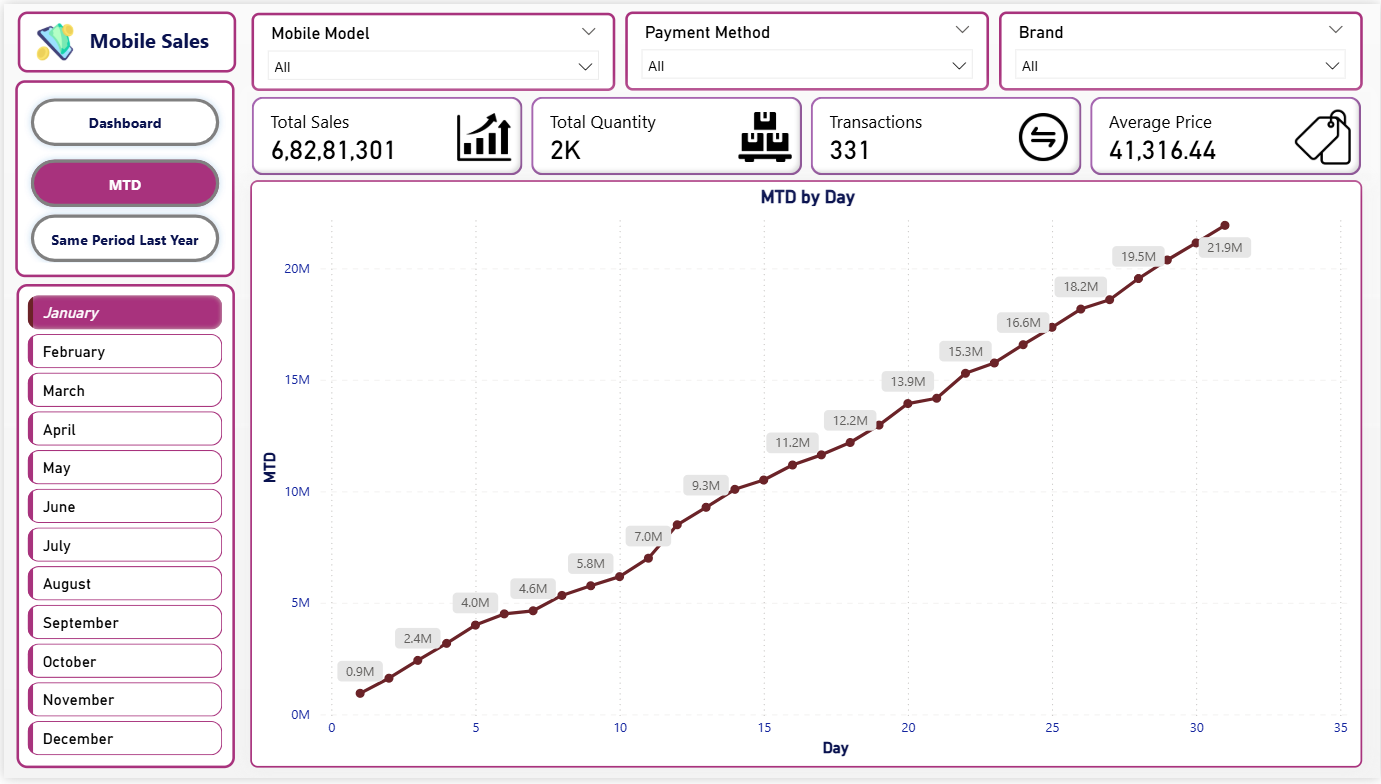

The page's visual inventory and layout, read from the dashboard file:
{"tool":"powerbi","page":{"name":"MTD","canvas":[1280,720],"ordinal":1},"visuals":[{"type":"lineChart","fields":{"Category":["Custom_calender.Date.Variation.Date Hierarchy.Year","Custom_calender.Date.Variation.Date Hierarchy.Quarter","Custom_calender.Date.Variation.Date Hierarchy.Month","Custom_calender.Date.Variation.Date Hierarchy.Day"],"Y":["Sales_data.MTD"]},"box":[229.4,164.4,1034.4,546],"z":0},{"type":"shape","box":[12.3,6.9,203.1,56.9],"z":1000},{"type":"textbox","box":[54.6,16.2,160.8,38.5],"z":2000},{"type":"image","box":[25.4,11.5,43.8,47.7],"z":3000},{"type":"shape","box":[11,71.2,203.7,182.8],"z":4000},{"type":"pageNavigator","box":[18.4,81,189,160.7],"z":5000},{"type":"advancedSlicerVisual","fields":{"Values":["Custom_calender.Date.Variation.Date Hierarchy.Month"]},"box":[12,260,203,450],"z":6000},{"type":"slicer","fields":{"Values":["Sales_data.Mobile Model"]},"box":[230,8.1,338.7,72.9],"z":7000},{"type":"slicer","fields":{"Values":["Sales_data.Payment Method"]},"box":[577.9,7.4,338.7,73.6],"z":8000},{"type":"slicer","fields":{"Values":["Sales_data.Brand"]},"box":[925.5,7.3,338.2,73.6],"z":9000},{"type":"cardVisual","fields":{"Data":["Sales_data.Total_sales","Sales_data.Total_Quantity","Sales_data.Transactions","Sales_data.Average_Price"]},"box":[225.8,80.8,1045.8,83],"z":10000}]}

Visuals, with their boxes in screenshot pixels (x1, y1, x2, y2), scaled from the page's 1280x720 canvas onto the 1381x784 screenshot:
lineChart - Custom_calender.Date.Variation.Date Hierarchy.Year x Custom_calender.Date.Variation.Date Hierarchy.Quarter: 248,179,1364,774
shape: 13,8,232,69
textbox: 59,18,232,60
image: 27,13,75,64
shape: 12,78,232,277
pageNavigator: 20,88,224,263
advancedSlicerVisual - Custom_calender.Date.Variation.Date Hierarchy.Month: 13,283,232,773
slicer - Sales_data.Mobile Model: 248,9,614,88
slicer - Sales_data.Payment Method: 623,8,989,88
slicer - Sales_data.Brand: 999,8,1363,88
cardVisual - Sales_data.Total_sales x Sales_data.Total_Quantity: 244,88,1372,178
